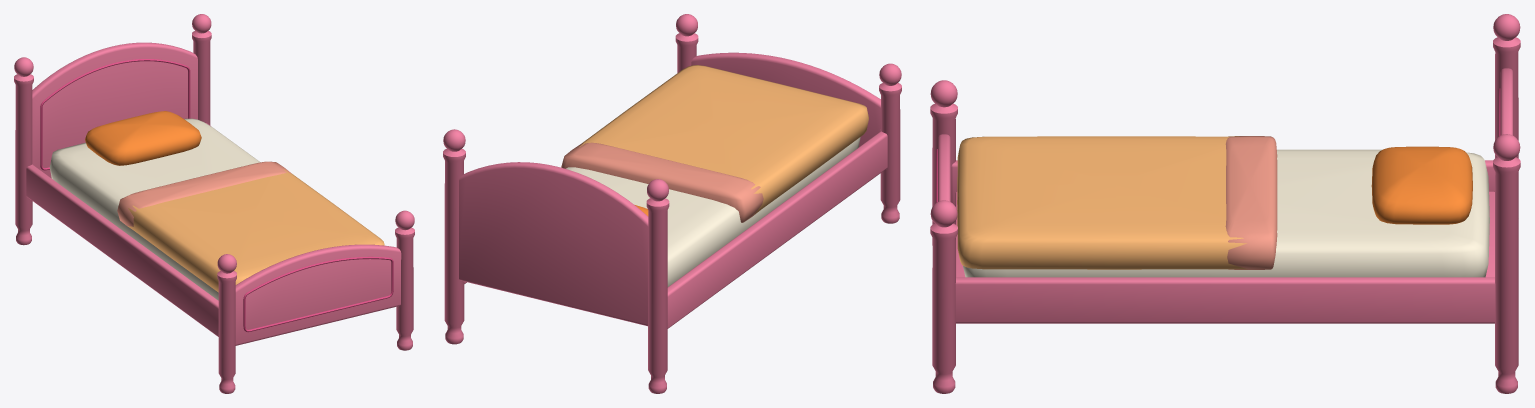
The model's file is cama_solteiro_classica_rosa.glb.
3 renders of one model, left to right at view 1: azimuth 30°, elevation 25°; view 2: azimuth 150°, elevation 25°; view 3: azimuth 270°, elevation 25°, orthographic. The views are drawn at different scales.
Visible parts, largest first — view 1: cama_solteiro_classica_rosa; view 2: cama_solteiro_classica_rosa; view 3: cama_solteiro_classica_rosa.
Part boxes in pixels (x1,y1,x2,y2): cama_solteiro_classica_rosa: (14,14,414,393); cama_solteiro_classica_rosa: (443,14,901,393); cama_solteiro_classica_rosa: (930,14,1520,393).
Size of the model in its own units: 1.11 by 0.9991 by 2.1.
Materials: 1 (1 with a texture image).
